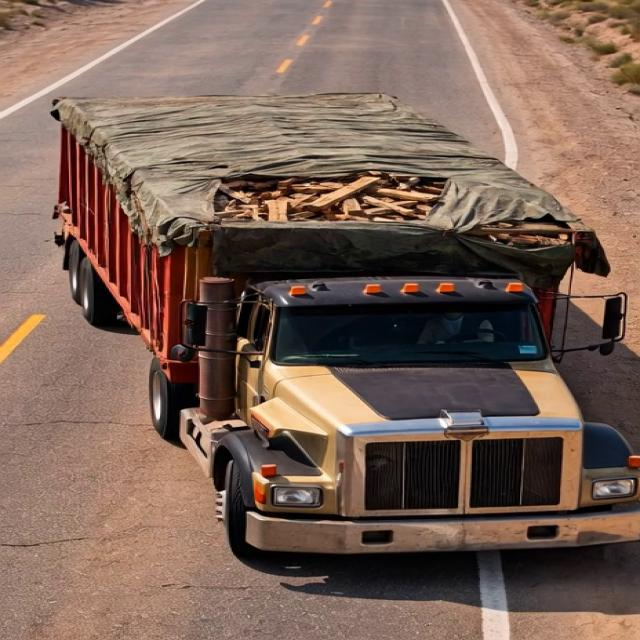Box: (42, 93, 585, 260)
Truck: (17, 75, 631, 600)
